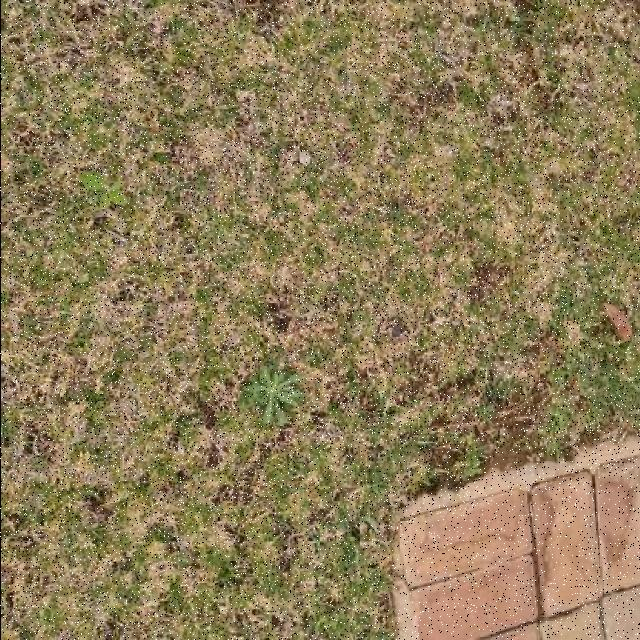weed: (241, 369, 302, 425)
